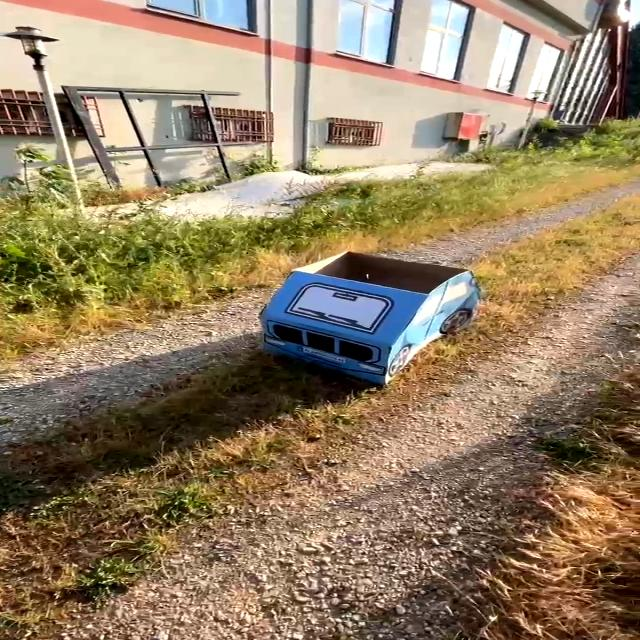blue_car: (181, 220, 521, 394)
